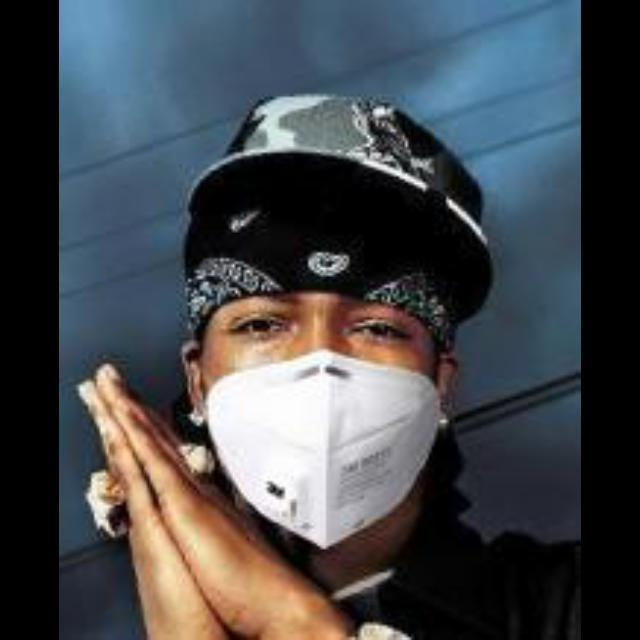suspicion: (175, 70, 533, 542)
